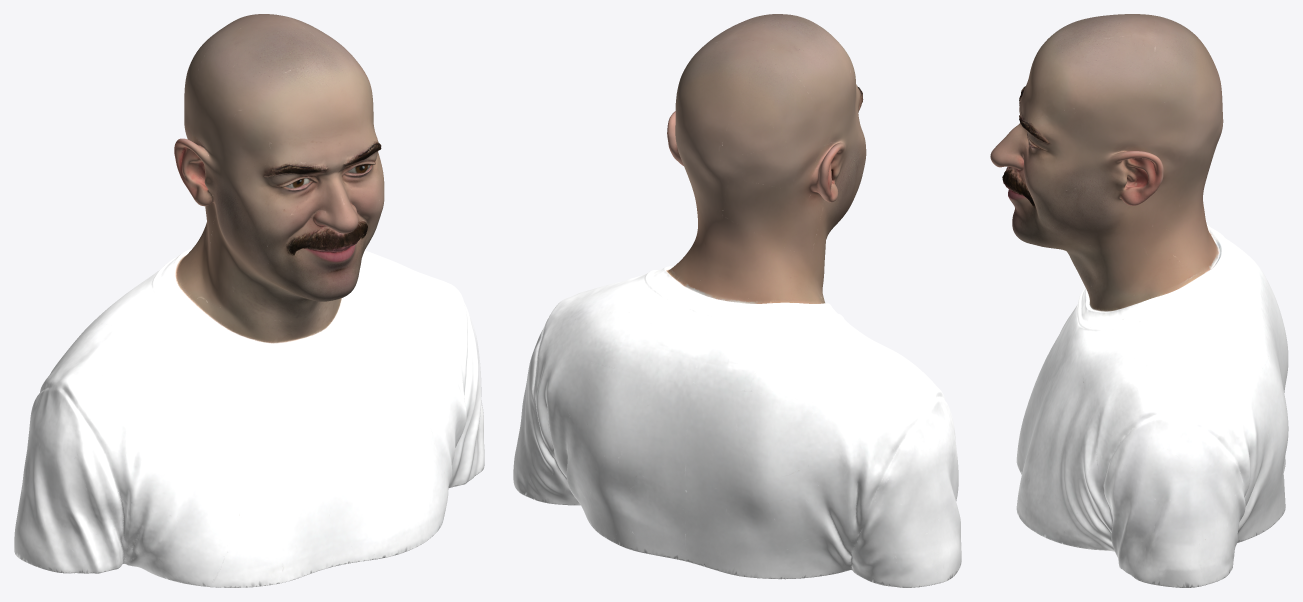
File: santi-head.opt.glb
The picture shows the model from 3 angles, left to right: view 1: azimuth 30°, elevation 25°; view 2: azimuth 150°, elevation 25°; view 3: azimuth 270°, elevation 25°; orthographic projection. The views are drawn at different scales.
Size of the model in its own units: 1.82 by 1.9 by 1.11.
1 material, 1 textured.
